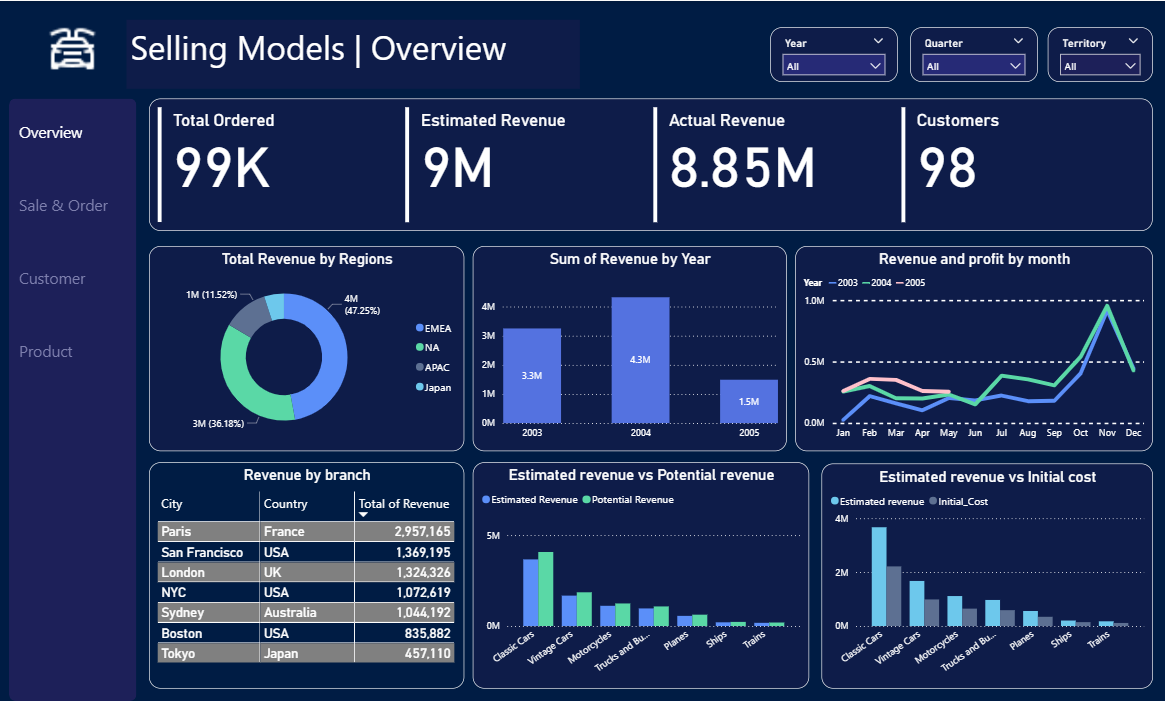

Layout of this report page (visuals, bound fields, positions):
{"tool":"powerbi","page":{"name":"Overview","canvas":[1500,900],"ordinal":0},"visuals":[{"type":"slicer","fields":{"Values":["Calendar Table.Year"]},"box":[992.2,33.8,164,70.8],"z":0},{"type":"clusteredColumnChart","title":"Estimated revenue vs Potential revenue","fields":{"Category":["productlines.productLine"],"Y":["Sum(orderdetails (2).Revenue)","Sum(orderdetails (2).Potential_Revenue)"]},"box":[609.5,593.4,432.6,291.1],"z":1000},{"type":"lineChart","title":"Revenue and profit by month","fields":{"Y":["Sum(orderdetails (2).Revenue)"],"Category":["Calendar Table.ShortMonth"],"Series":["Calendar Table.Year"]},"box":[1024.3,315.2,459.9,263.7],"z":2000},{"type":"pivotTable","title":"Revenue by branch","fields":{"Values":["Min(offices.country)","Sum(orderdetails (2).Revenue)"],"Rows":["offices.city"]},"box":[193,593.4,405.2,291.1],"z":3000},{"type":"clusteredColumnChart","title":"Estimated revenue vs Initial cost","fields":{"Category":["productlines.productLine"],"Y":["Sum(orderdetails (2).Revenue)","Sum(orderdetails (2).Initial_Revenue)"]},"box":[1058.1,595,426.1,289.5],"z":4000},{"type":"clusteredColumnChart","fields":{"Category":["Calendar Table.Year"],"Y":["Sum(orderdetails (2).Revenue)"]},"box":[609.5,315.2,403.6,263.7],"z":5000},{"type":"slicer","fields":{"Values":["Calendar Table.Quarter"]},"box":[1172.3,33.8,164,70.8],"z":6000},{"type":"donutChart","title":"Total Revenue by Regions","fields":{"Y":["Sum(orderdetails (2).Revenue)"],"Category":["offices.territory"]},"box":[193,315.2,405.2,263.7],"z":7000},{"type":"textbox","box":[163.2,24.9,582.9,88.6],"z":8000},{"type":"image","box":[28.9,20.9,131.9,83.6],"z":9000},{"type":"group","id":"g1","title":"Group 1","box":[12.9,125.4,210.7,775.1],"z":10000},{"type":"cardVisual","fields":{"Data":["Sum(orderdetails (2).quantityOrdered)","Sum(orderdetails (2).Revenue)","Sum(payments.amount)","Count(orders.customerNumber)"]},"box":[193,125.4,1291.3,170.5],"z":11000},{"type":"slicer","fields":{"Values":["offices.territory"]},"box":[1349.2,33.8,135.1,70.8],"z":12000},{"type":"shape","box":[12.9,125.4,164.2,775.1],"z":14000,"group":"g1"},{"type":"pageNavigator","box":[25.3,153.6,198.3,367.7],"z":15000,"group":"g1"}]}

Visuals, with their boxes on the page's 1500x900 design canvas (x1, y1, x2, y2). These are canvas units, not pixel positions in the 1165x701 screenshot, which may show the page scaled, cropped or inside an application window:
slicer - Calendar Table.Year: [992,34,1156,105]
"Estimated revenue vs Potential revenue" clusteredColumnChart: [610,593,1042,884]
"Revenue and profit by month" lineChart: [1024,315,1484,579]
"Revenue by branch" pivotTable: [193,593,598,884]
"Estimated revenue vs Initial cost" clusteredColumnChart: [1058,595,1484,884]
clusteredColumnChart - Calendar Table.Year x Sum(orderdetails (2).Revenue): [610,315,1013,579]
slicer - Calendar Table.Quarter: [1172,34,1336,105]
"Total Revenue by Regions" donutChart: [193,315,598,579]
textbox: [163,25,746,114]
image: [29,21,161,104]
"Group 1" group: [13,125,224,900]
cardVisual - Sum(orderdetails (2).quantityOrdered) x Sum(orderdetails (2).Revenue): [193,125,1484,296]
slicer - offices.territory: [1349,34,1484,105]
shape: [13,125,177,900]
pageNavigator: [25,154,224,521]
